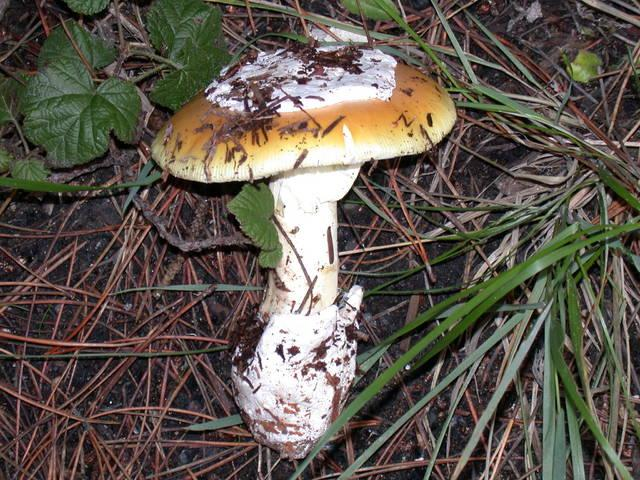edible_mushroom: (149, 40, 457, 460)
